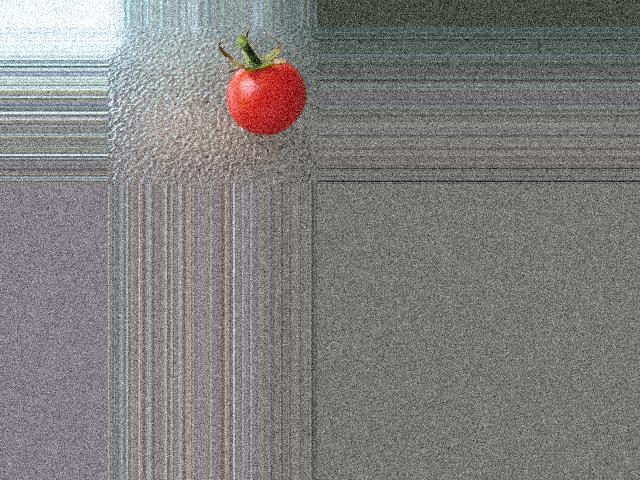tomato: (224, 62, 305, 136)
